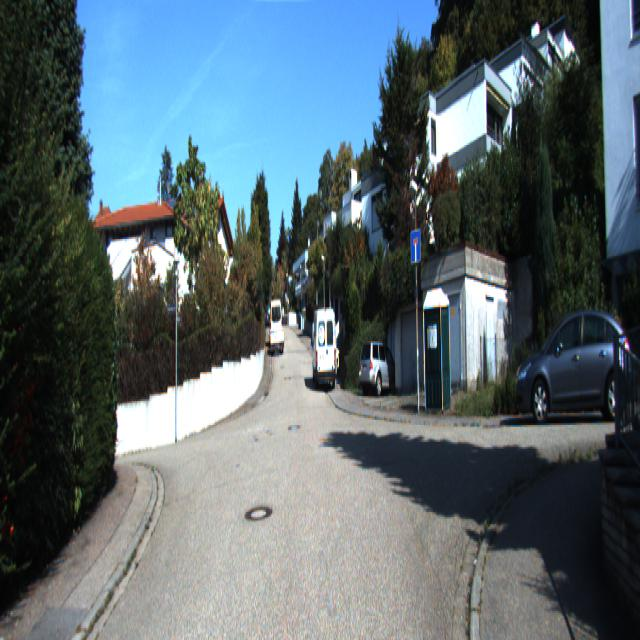Car: (514, 296, 635, 424), (358, 336, 404, 396), (311, 305, 338, 390), (269, 298, 282, 346), (270, 325, 284, 349)
